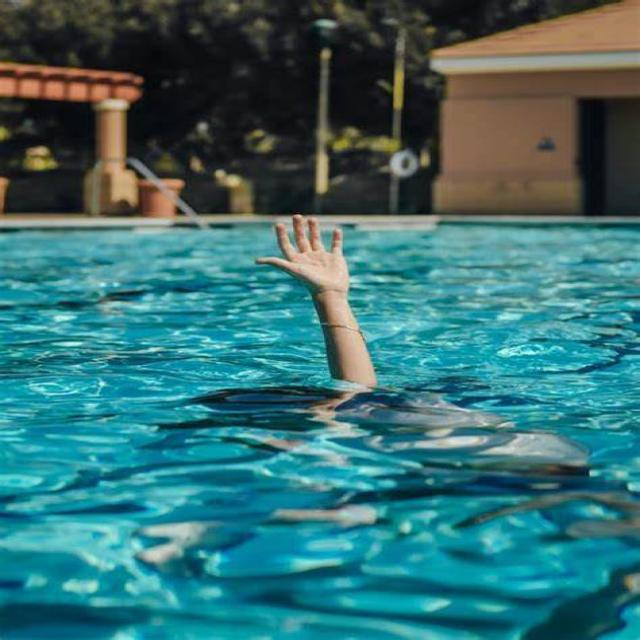Drowning: (202, 218, 594, 509)
